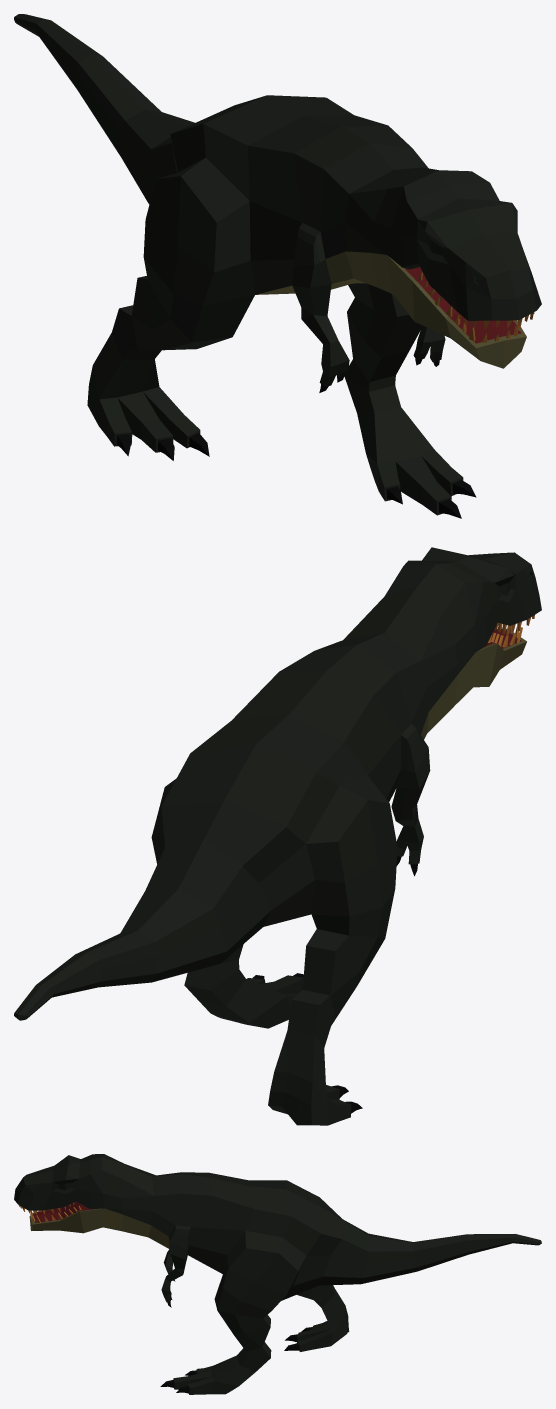
Rendered from Trex_000002.obj.
The picture shows the model from 3 angles, top to bottom: view 1: azimuth 30°, elevation 25°; view 2: azimuth 150°, elevation 25°; view 3: azimuth 270°, elevation 25°; orthographic projection. The views are drawn at different scales.
Visible parts, largest first — view 1: Trex_Cylinder; view 2: Trex_Cylinder; view 3: Trex_Cylinder.
Boxes of the visible parts, <box> form: Trex_Cylinder: <box>14,14,541,518</box>; Trex_Cylinder: <box>14,547,541,1125</box>; Trex_Cylinder: <box>14,1154,541,1394</box>.
Bounding box in the file's own units: 8.12 × 13.75 × 31.09.
